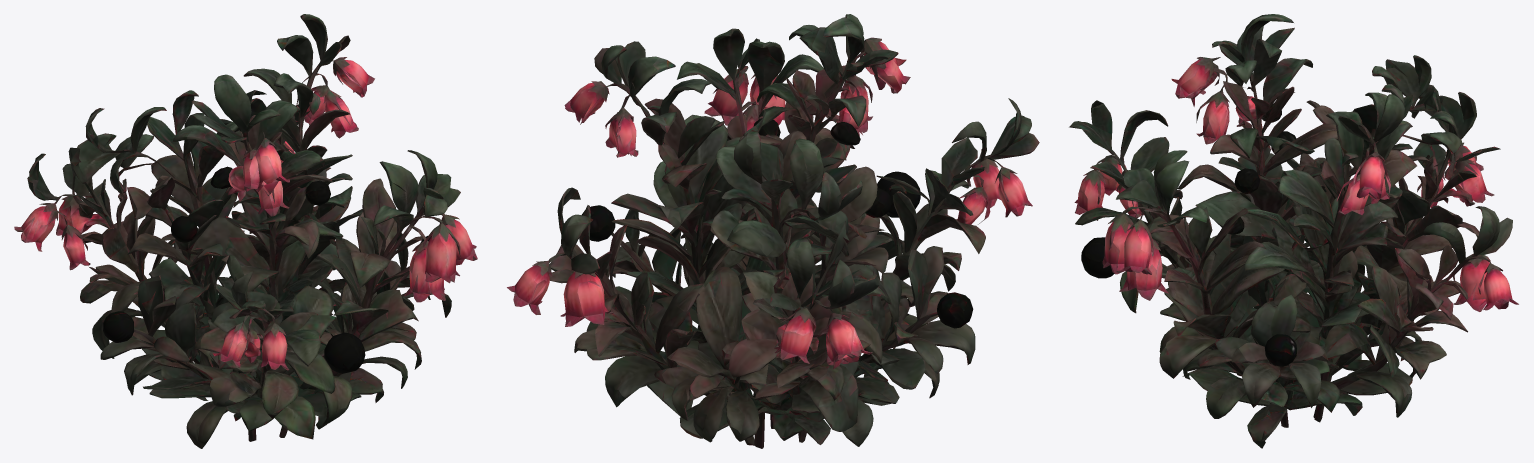
The model's file is hf_infial.glb.
The picture shows the model from 3 angles, left to right: view 1: azimuth 30°, elevation 25°; view 2: azimuth 150°, elevation 25°; view 3: azimuth 270°, elevation 25°; orthographic projection. The views are drawn at different scales.
Bounding box in the file's own units: 1.7 × 1.77 × 1.9.
1 material, 1 textured.
